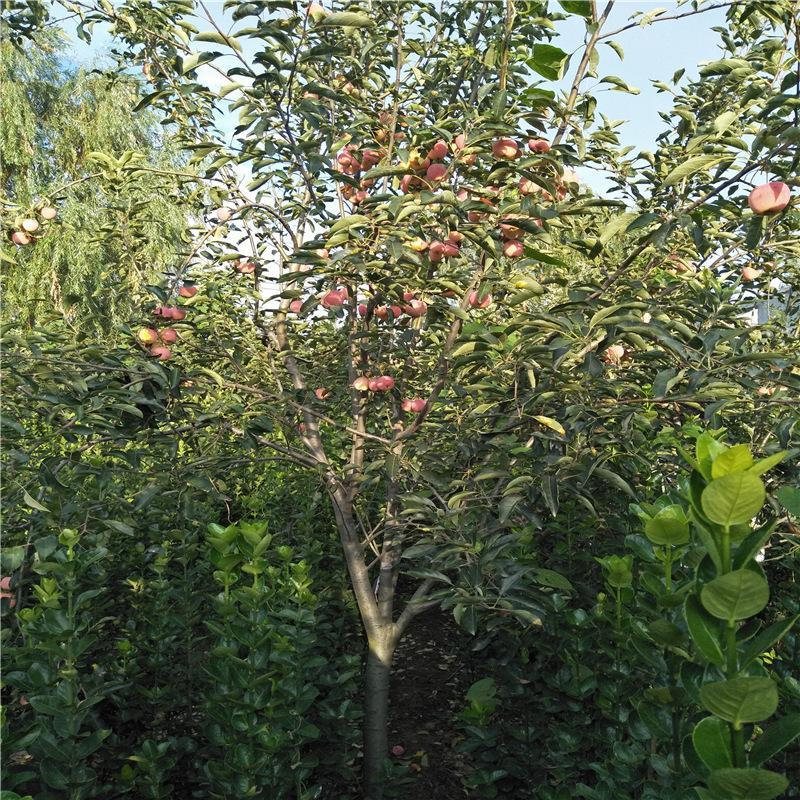apple: (749, 181, 791, 214)
